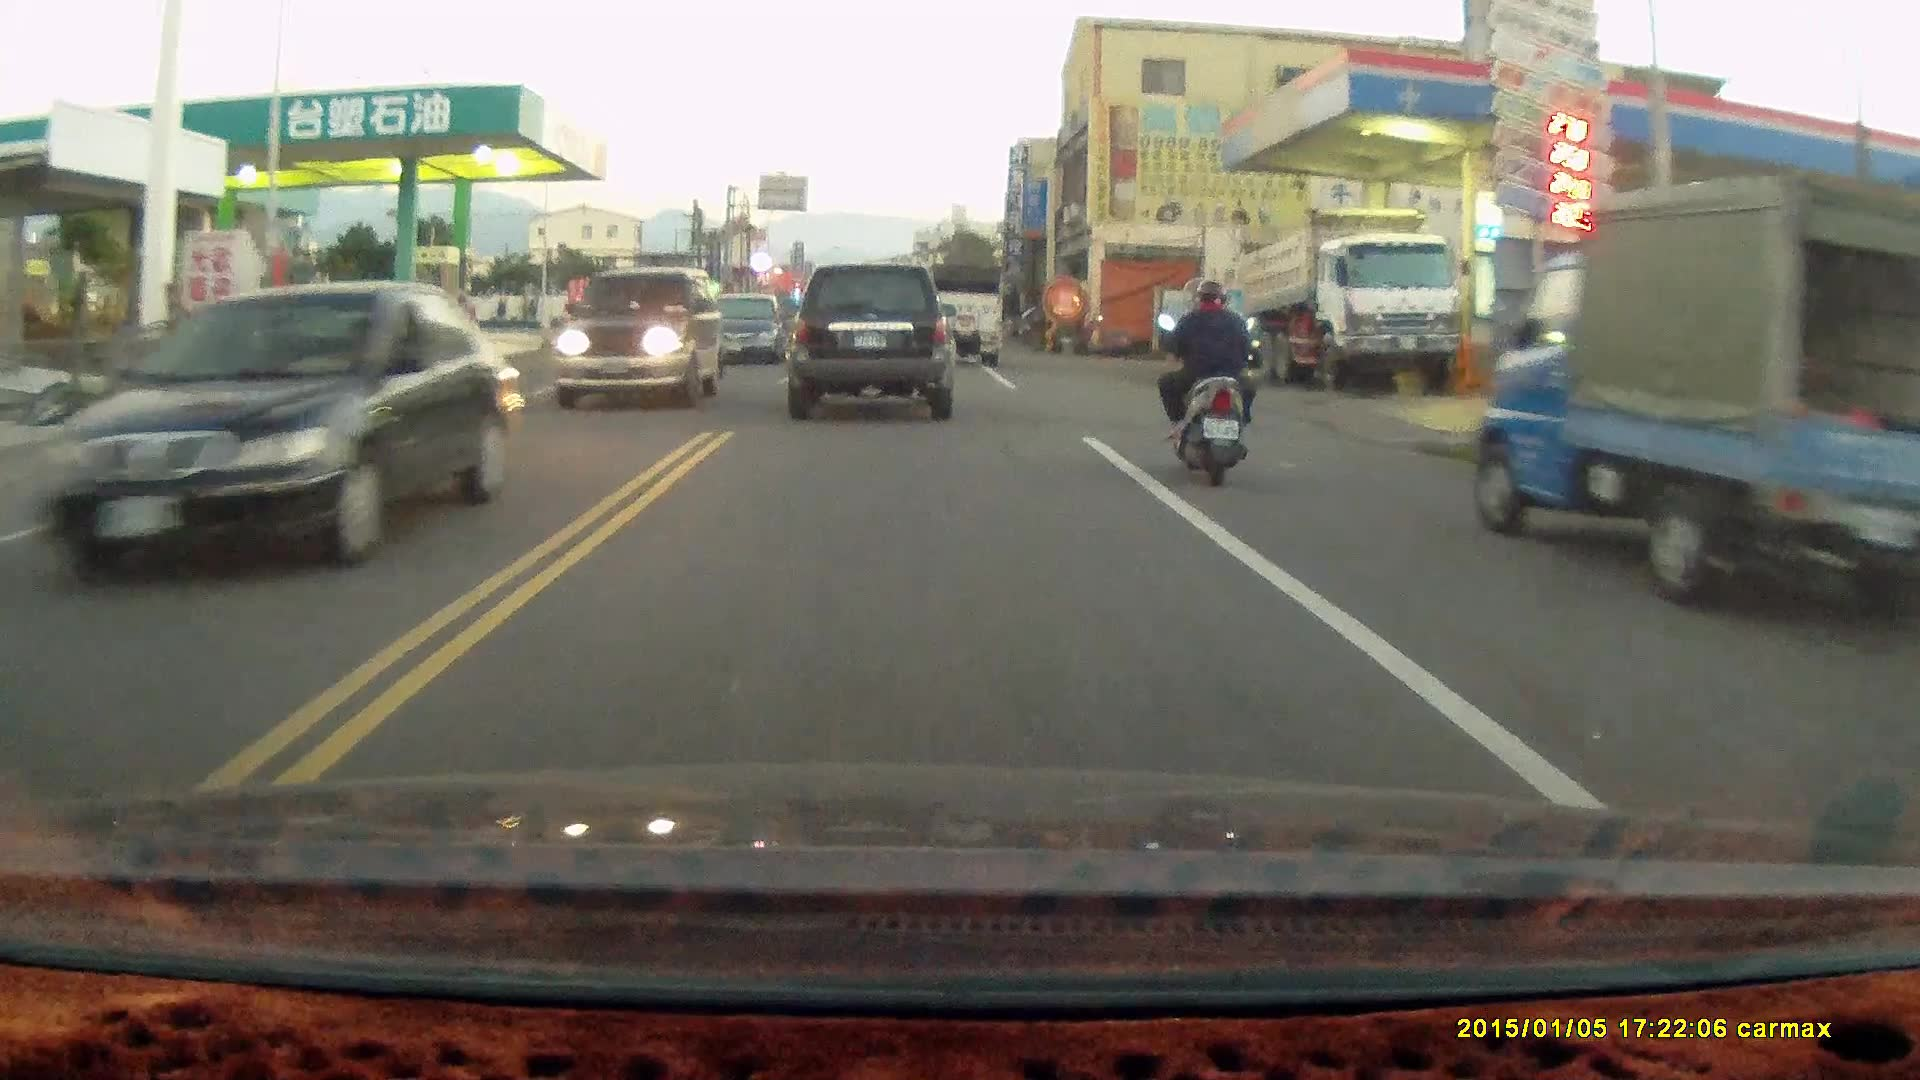rider: (1154, 277, 1261, 488)
vehicle: (1475, 173, 1920, 618), (34, 284, 505, 573), (1224, 195, 1461, 385), (789, 260, 955, 416), (557, 267, 724, 413), (915, 260, 1007, 369), (705, 296, 795, 365)
